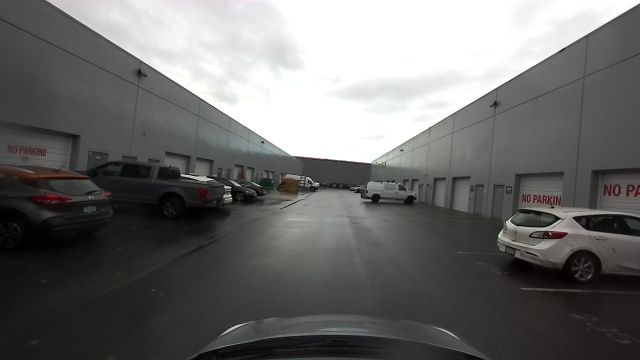car: (495, 203, 637, 280), (2, 167, 116, 229), (115, 157, 222, 218), (360, 181, 417, 204), (226, 178, 264, 202)
